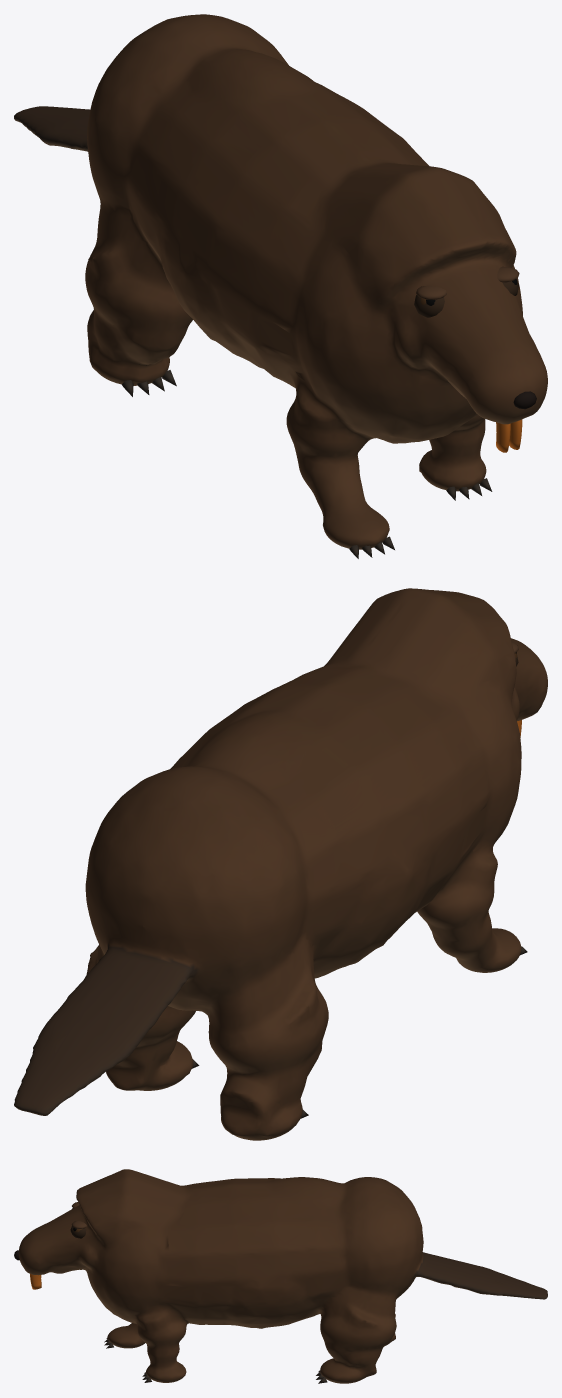
Rendered from CastoroidesOhioensis.fbx.
3 views of the same model, one above another, from view 1: azimuth 30°, elevation 25°; view 2: azimuth 150°, elevation 25°; view 3: azimuth 270°, elevation 25° (orthographic). The views are drawn at different scales.
Visible parts, largest first — view 1: CastoroidesOhioensis; view 2: CastoroidesOhioensis; view 3: CastoroidesOhioensis.
Part boxes in pixels (left/top/right/bottom): CastoroidesOhioensis: left=14, top=14, right=547, bottom=558; CastoroidesOhioensis: left=14, top=588, right=547, bottom=1140; CastoroidesOhioensis: left=14, top=1169, right=547, bottom=1383.
Size of the model in its own units: 0.5318 by 0.7967 by 2.03.
